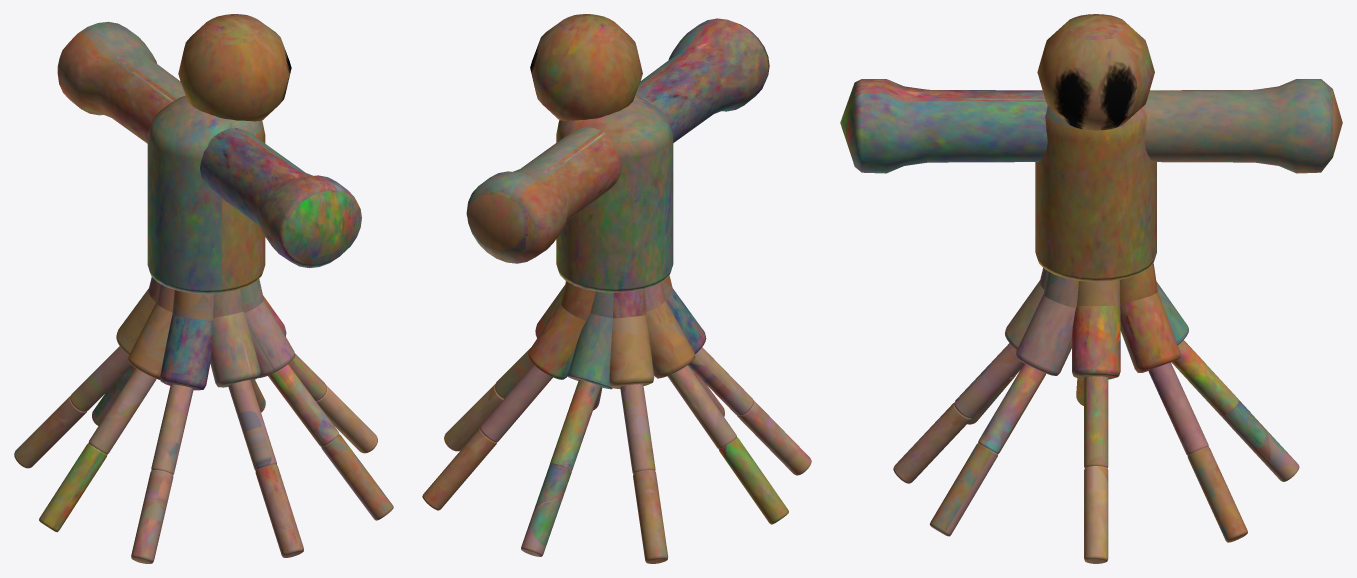
3 renders of one model, left to right at view 1: azimuth 30°, elevation 25°; view 2: azimuth 150°, elevation 25°; view 3: azimuth 270°, elevation 25°, orthographic. The views are drawn at different scales.
Visible parts, largest first — view 1: cylinder_1 (×2), cylinder, sphere, seg_6_1, seg_5_1, cylinder_13, cylinder_16, cylinder_19, cylinder_10, seg_4_1, cylinder_18, cylinder_12 (+12 smaller); view 2: cylinder_1 (×2), cylinder, sphere, seg_8_1, seg_2, seg_9_1, seg_7_1, cylinder_25, cylinder_22, cylinder_19, cylinder_24, cylinder_4 (+11 smaller); view 3: cylinder_1 (×2), cylinder, sphere, seg_3_1, seg_2, seg_4_1, cylinder_4, cylinder_7, cylinder_10, cylinder_9, cylinder_3, cylinder_6 (+9 smaller).
Boxes of the visible parts, x1,y1,x2,y2 form: cylinder_1 (×2): (57,21,361,268); cylinder: (147,95,265,293); sphere: (178,14,291,121); seg_6_1: (160,315,212,390); seg_5_1: (210,311,260,387); cylinder_13: (255,464,303,557); cylinder_16: (131,470,173,563); cylinder_19: (39,443,107,532); cylinder_10: (321,434,393,520); seg_4_1: (244,299,294,378); cylinder_18: (88,368,156,454); cylinder_12: (228,380,276,470); cylinder_1 (×2): (466,18,769,263); cylinder: (556,95,673,292); sphere: (530,14,642,120); seg_8_1: (609,315,654,388); seg_2: (527,303,590,379); seg_9_1: (568,313,612,389); seg_7_1: (646,300,695,378); cylinder_25: (521,464,571,556); cylinder_22: (633,470,668,563); cylinder_19: (719,437,788,524); cylinder_24: (550,380,601,470); cylinder_4: (422,428,497,510); cylinder_1 (×2): (840,79,1342,173); cylinder: (1035,105,1156,281); sphere: (1037,14,1154,130); seg_3_1: (1072,305,1120,379); seg_2: (1120,292,1180,372); seg_4_1: (1015,294,1075,375); cylinder_4: (1187,447,1247,542); cylinder_7: (1084,466,1108,563); cylinder_10: (929,443,997,536); cylinder_9: (978,363,1045,453); cylinder_3: (1148,362,1208,455); cylinder_6: (1084,376,1108,467).
Size of the model in its own units: 208 by 273 by 258.
